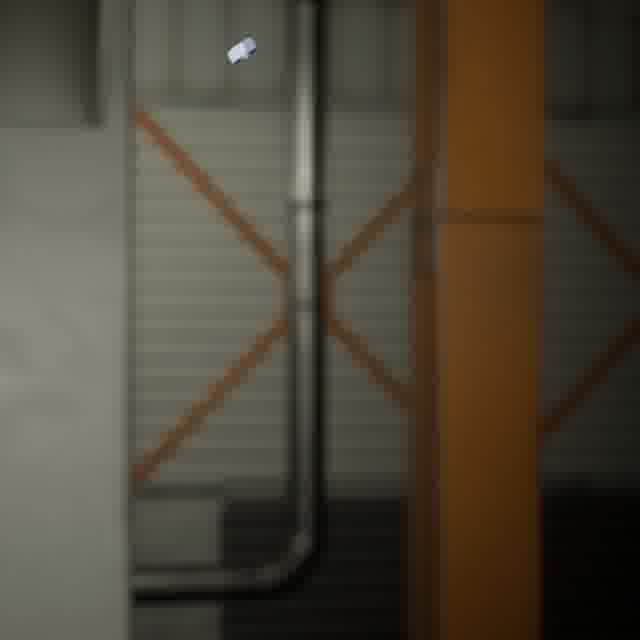nut: (222, 33, 261, 68)
